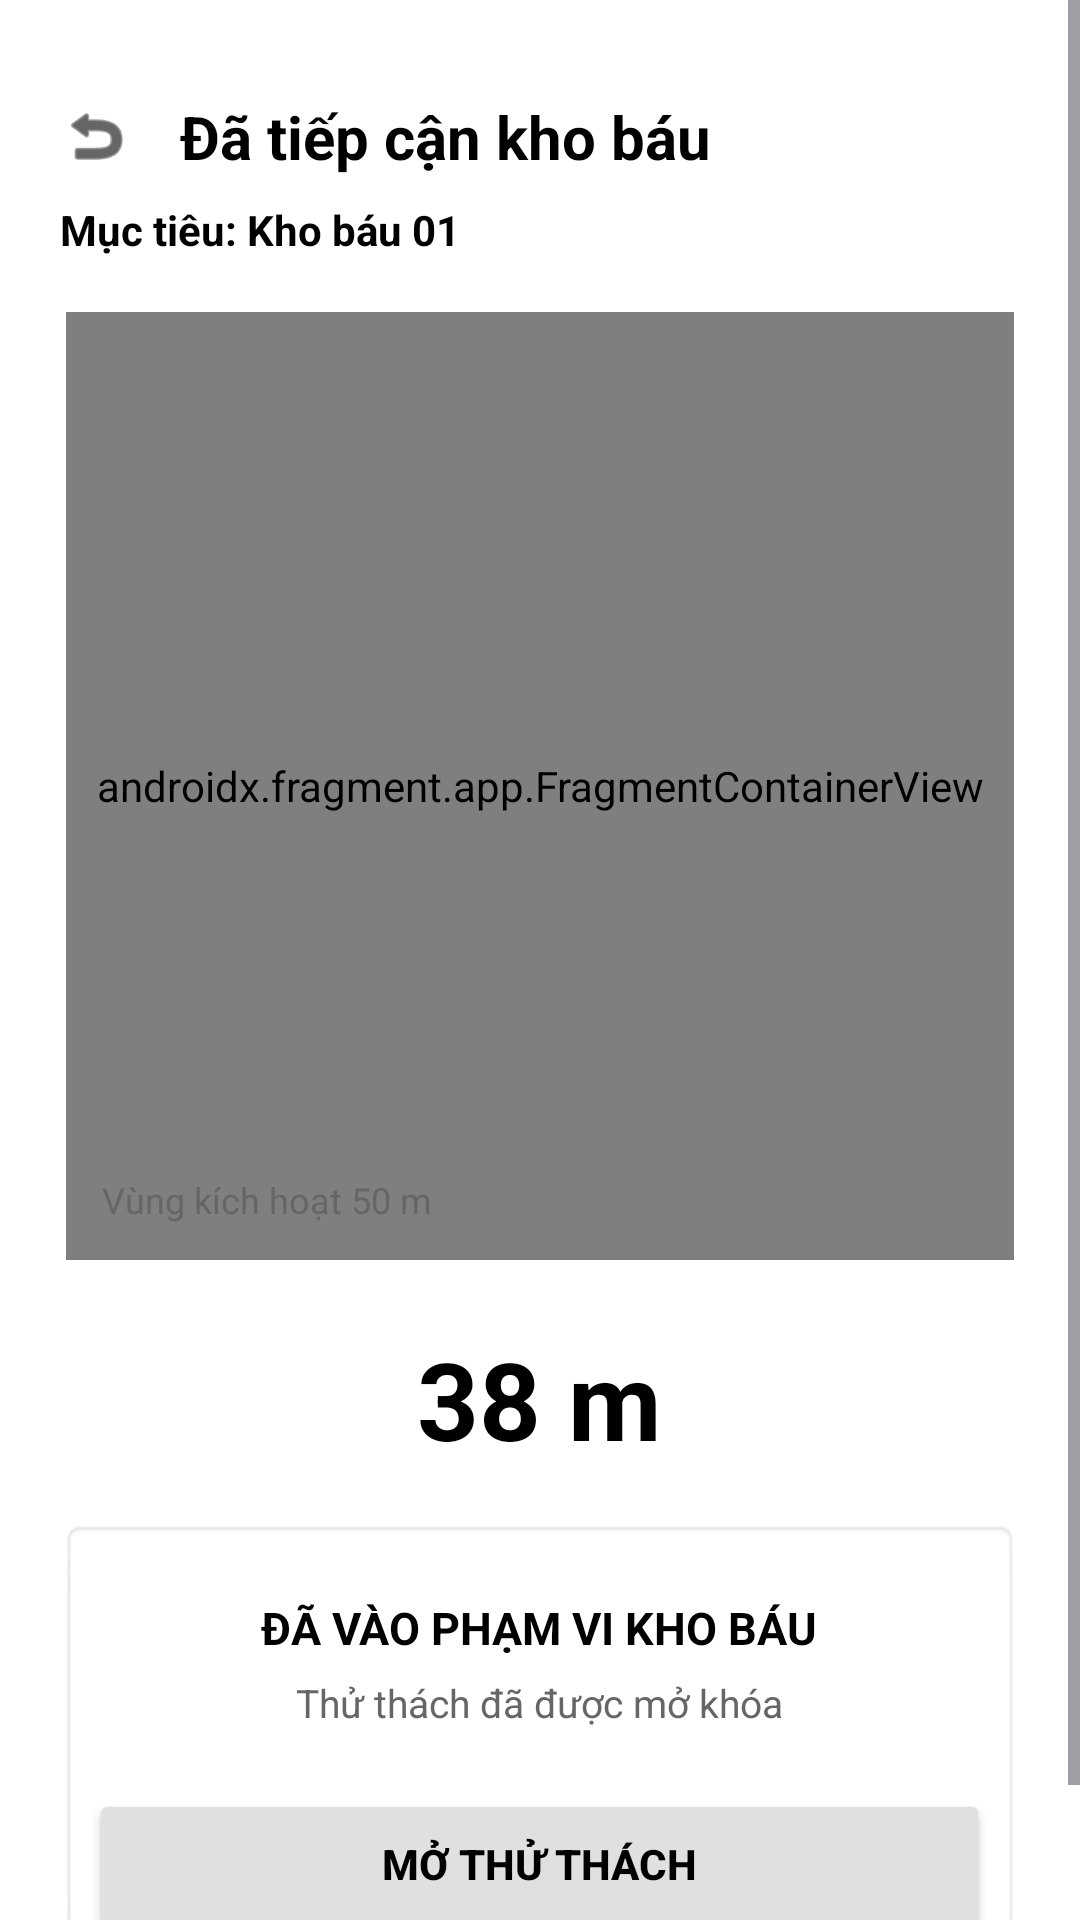

Icons on this 1080×1920 Android screen, each with its box as [x1, y1, x2, y2]:
Quay lại: [71, 113, 123, 160]
